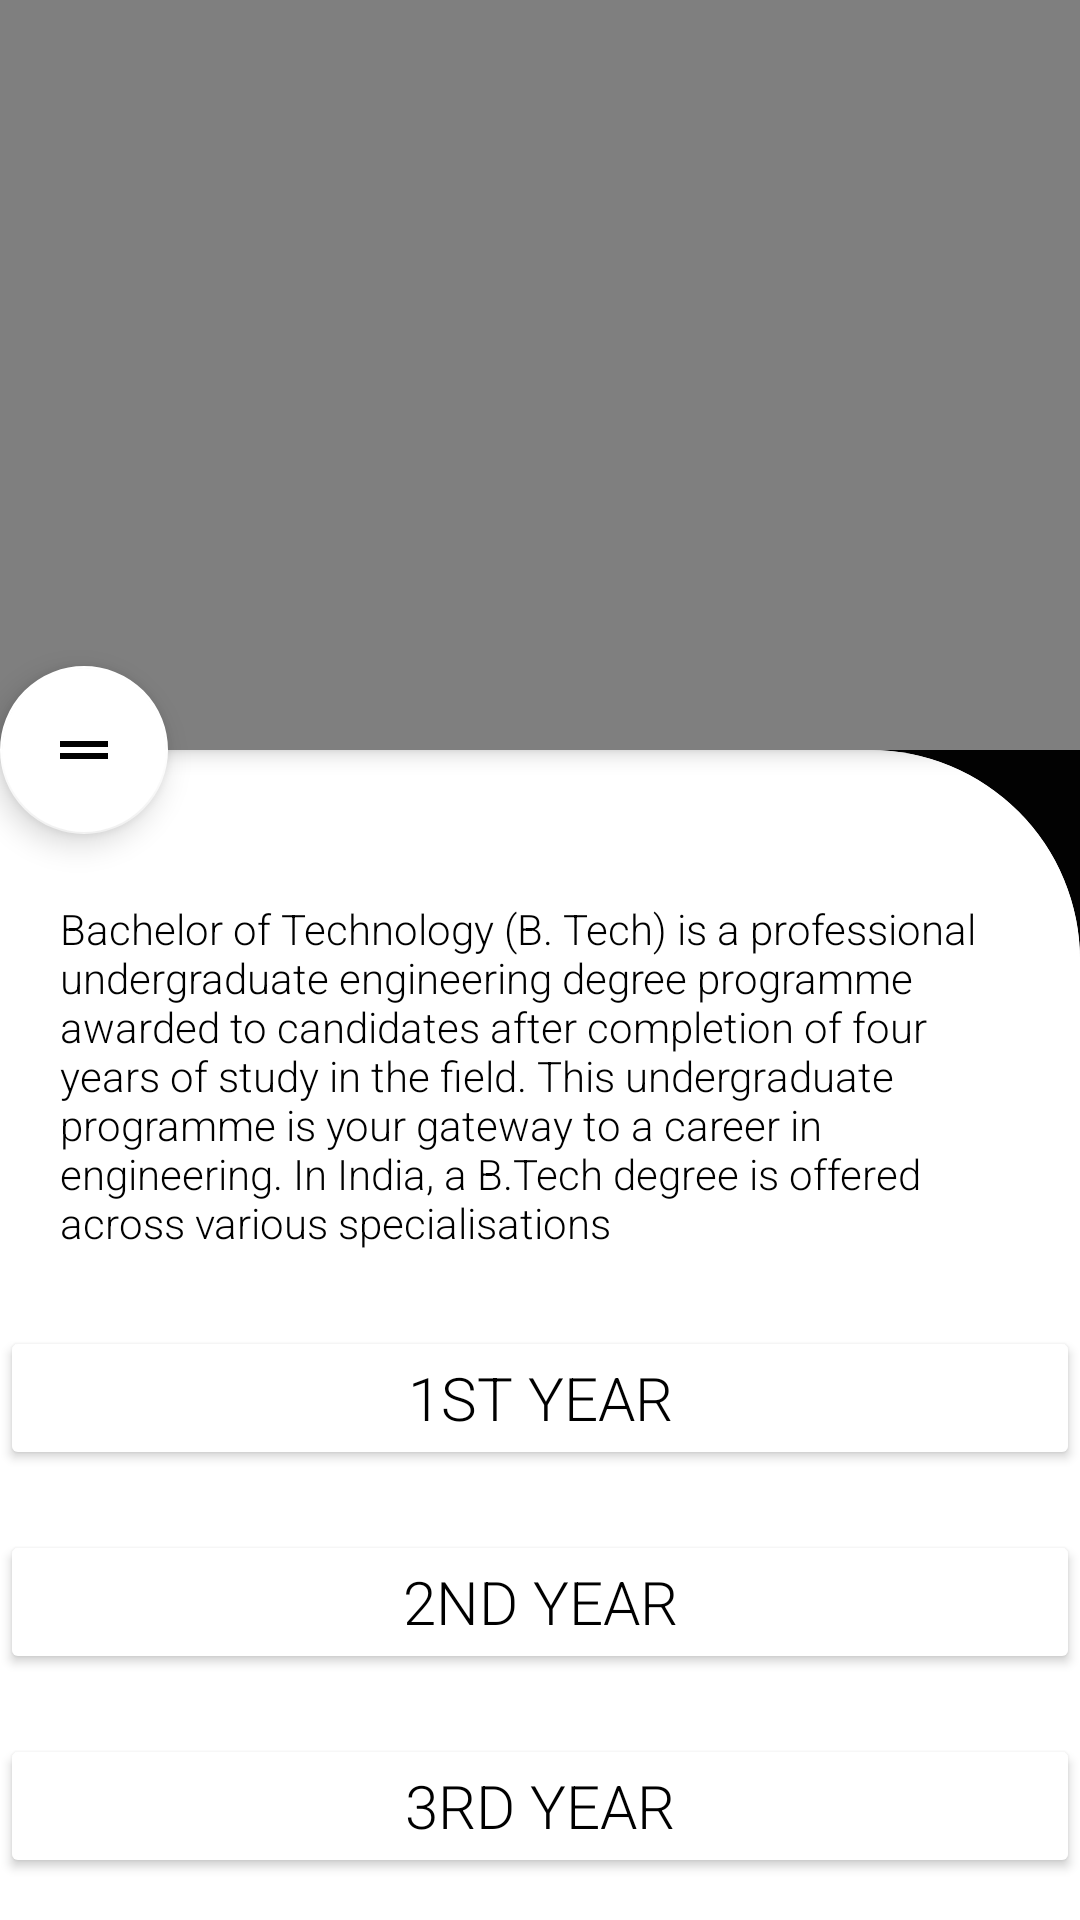

Icons on this 1080px×1920px Android screen, each with the point to tap as (x,y):
drag handle: (84,750)
